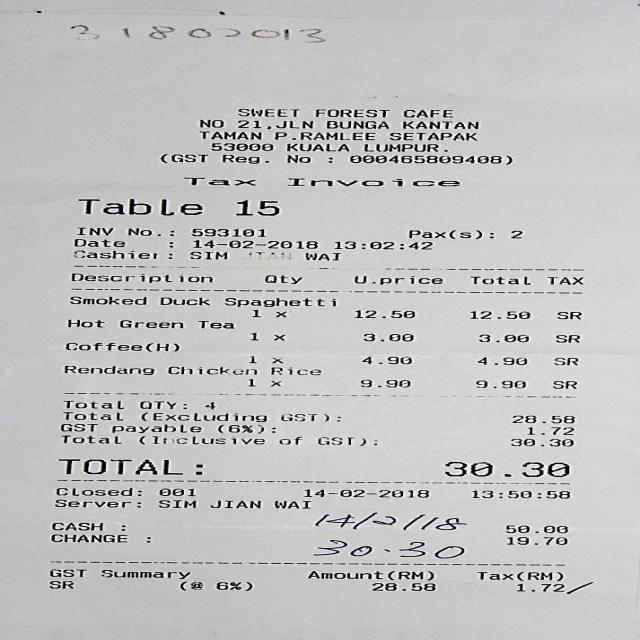text: (58, 458, 182, 477), (77, 198, 201, 216), (441, 460, 569, 477), (349, 155, 511, 164), (71, 273, 211, 283), (286, 178, 458, 186), (306, 570, 432, 580), (192, 239, 316, 249), (141, 412, 265, 422), (63, 342, 178, 352), (222, 297, 334, 307), (304, 489, 428, 498), (331, 240, 431, 250), (138, 436, 263, 444), (62, 365, 153, 375), (352, 275, 441, 285), (100, 569, 188, 579), (71, 250, 157, 260), (475, 571, 561, 581), (110, 424, 200, 433), (272, 132, 373, 140), (388, 132, 476, 141), (167, 366, 255, 375), (471, 490, 568, 498), (407, 230, 492, 239), (364, 143, 446, 152), (235, 199, 278, 216), (54, 488, 140, 496), (236, 120, 312, 129), (188, 228, 264, 237), (69, 296, 145, 305), (54, 499, 139, 507), (181, 177, 254, 186), (198, 130, 260, 140), (401, 121, 477, 129), (50, 534, 126, 542), (61, 411, 121, 421), (314, 109, 388, 117), (508, 438, 572, 447), (217, 424, 274, 434), (235, 108, 297, 117), (510, 415, 572, 424), (504, 536, 566, 545), (372, 582, 434, 591), (326, 120, 387, 129), (61, 400, 122, 409), (59, 435, 120, 444), (468, 276, 528, 285), (284, 143, 348, 151), (118, 320, 181, 328), (503, 525, 566, 533), (209, 143, 271, 151), (515, 582, 564, 592), (158, 153, 206, 163), (468, 311, 528, 319), (354, 310, 413, 318), (220, 154, 267, 164), (279, 413, 330, 422), (51, 522, 102, 531), (474, 380, 524, 389), (316, 437, 366, 446), (402, 109, 451, 118), (360, 379, 408, 388), (242, 252, 294, 260), (208, 500, 260, 508), (73, 239, 123, 247), (477, 334, 527, 342), (475, 357, 525, 365), (270, 367, 320, 375), (363, 333, 412, 341), (160, 297, 208, 305), (362, 356, 410, 364), (138, 401, 185, 409), (527, 427, 573, 435), (262, 275, 301, 284), (188, 251, 225, 260), (66, 319, 103, 328), (273, 500, 310, 509), (213, 582, 250, 591), (248, 332, 284, 341), (155, 500, 195, 508), (245, 378, 280, 387), (198, 320, 232, 329), (58, 423, 96, 431), (75, 227, 112, 235), (157, 488, 194, 496), (546, 276, 582, 284), (50, 569, 86, 577), (247, 356, 282, 364), (304, 252, 338, 260), (252, 309, 284, 317), (178, 581, 201, 591), (198, 119, 222, 128), (284, 154, 308, 163), (552, 380, 576, 389), (46, 580, 72, 588), (278, 436, 301, 445), (555, 312, 580, 320), (553, 334, 578, 342), (551, 357, 576, 365), (126, 228, 152, 235), (508, 230, 521, 239), (204, 401, 213, 409)
